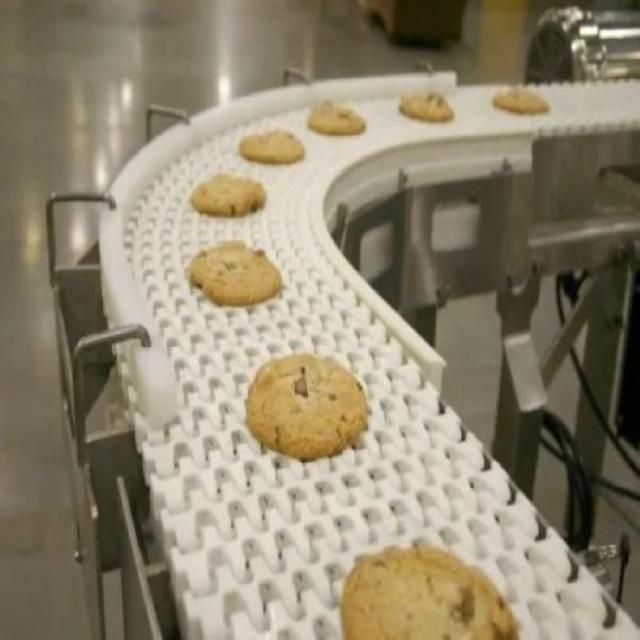food: (336, 529, 526, 640), (244, 350, 368, 461), (183, 233, 287, 313)
